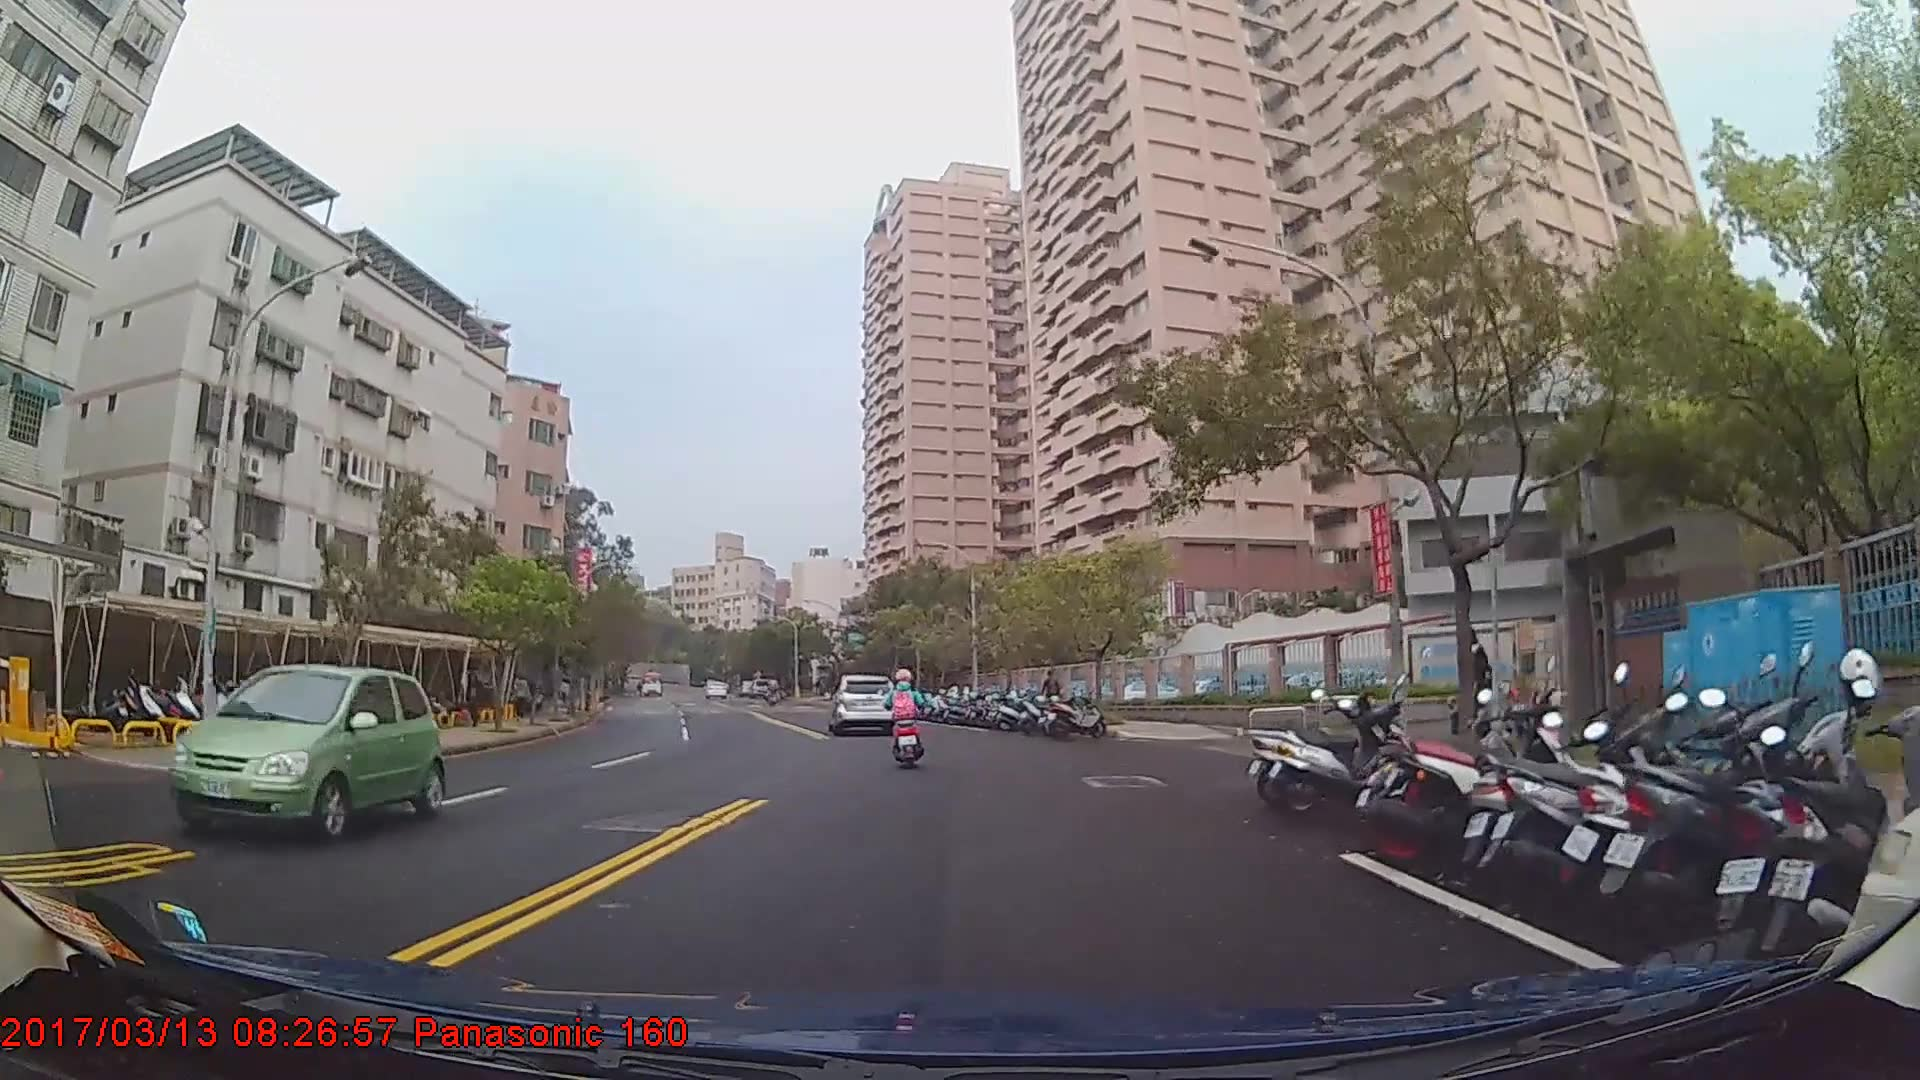pedestrian: (1454, 626, 1493, 768), (1042, 671, 1062, 727)
rider: (882, 669, 925, 766)
vehicle: (169, 663, 445, 845), (828, 673, 897, 738), (638, 669, 664, 698)
